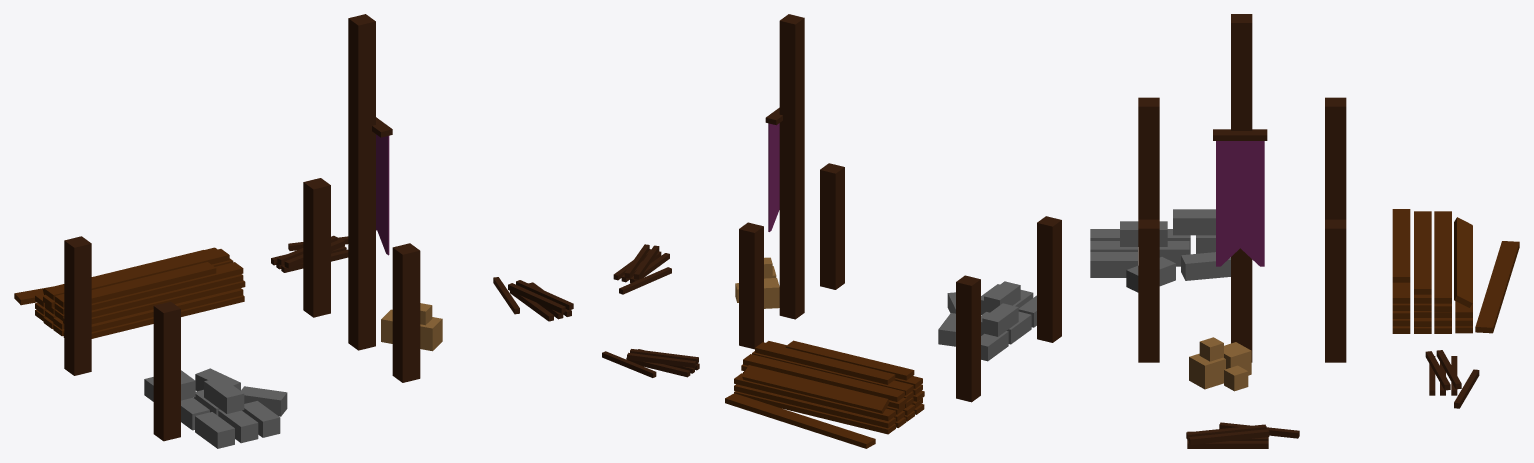
File: PigPenBuildPhase1v1.fbx
3 views of the same model, side by side, from view 1: azimuth 30°, elevation 25°; view 2: azimuth 150°, elevation 25°; view 3: azimuth 270°, elevation 25° (orthographic). The views are drawn at different scales.
Visible parts, largest first — view 1: Cube.2708; view 2: Cube.2708; view 3: Cube.2708.
Boxes of the visible parts, bbox=[...] form: Cube.2708: bbox=[14, 14, 573, 448]; Cube.2708: bbox=[602, 14, 1061, 448]; Cube.2708: bbox=[1090, 14, 1519, 448].
Bounding box in the file's own units: 168 × 120 × 138.
